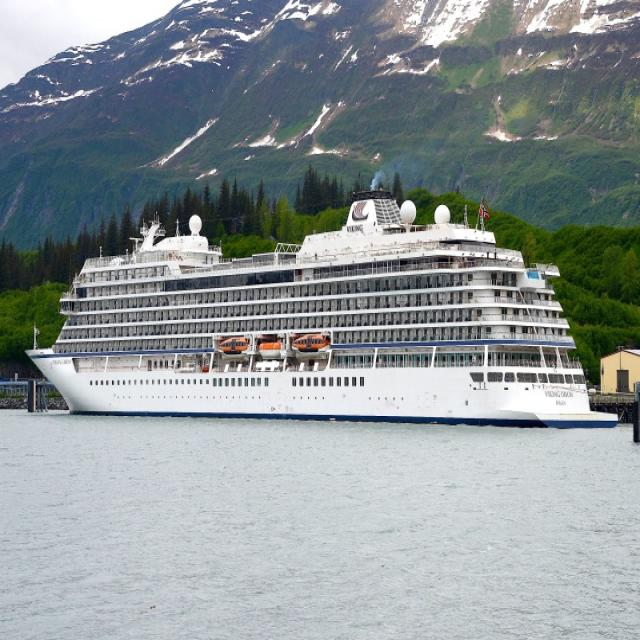cruises: (25, 170, 627, 433)
